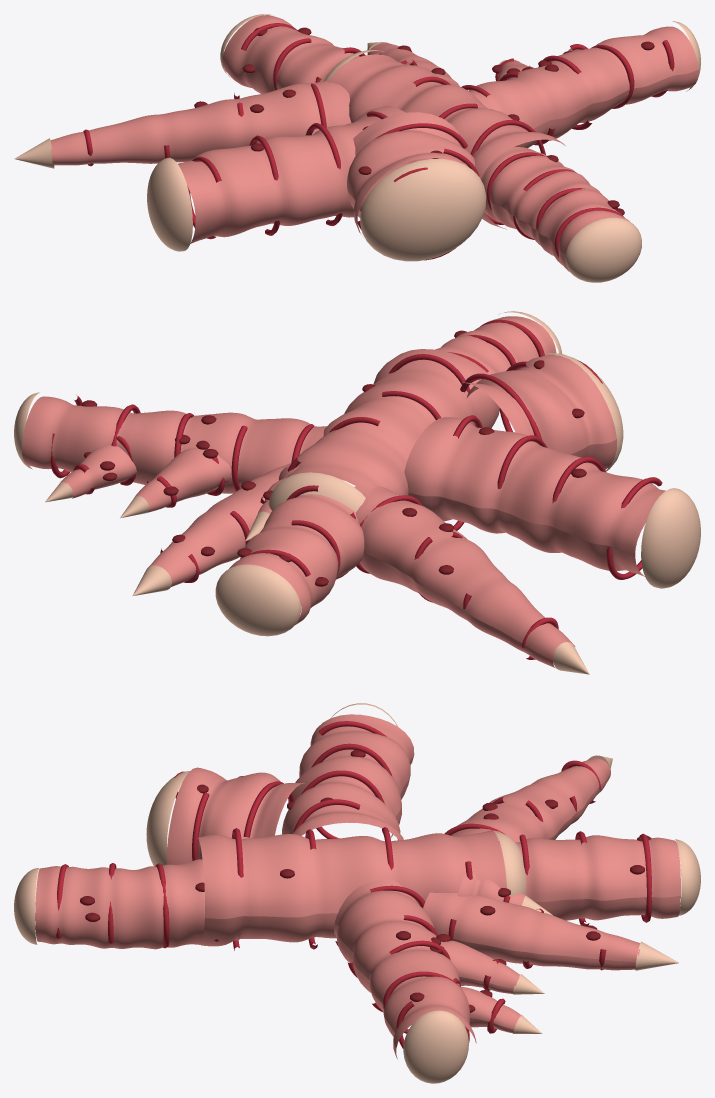
The model's file is jahe_merah.glb.
3 views of the same model, one above another, from view 1: azimuth 30°, elevation 25°; view 2: azimuth 150°, elevation 25°; view 3: azimuth 270°, elevation 25° (orthographic). The views are drawn at different scales.
Parts seen in each view (by area): view 1: finger_left, finger_upper_left, finger_right, knob_lower_left_cap, body_central, finger_bottom, finger_top, knob_lower_left, finger_bottom_cap, finger_left_cap, finger_upper_right, finger_upper_left_tip (+6 smaller); view 2: finger_left, finger_upper_left, finger_right, body_central, knob_lower_left, finger_top, finger_upper_right, finger_top_cap, finger_left_cap, finger_bottom, bud_right_a, bud_right_b (+8 smaller); view 3: body_central, finger_bottom, finger_top, finger_right, finger_left, finger_upper_right, knob_lower_left, finger_upper_left, finger_right_cap, bud_right_a, knob_lower_left_cap, bud_right_b (+6 smaller).
Part boxes in pixels (x1,y1,x2,y2): finger_left: (178,106,432,243); finger_upper_left: (50,81,351,165); finger_right: (468,26,698,148); knob_lower_left_cap: (360,159,486,261); body_central: (328,54,565,229); finger_bottom: (481,147,629,271); finger_top: (222,15,359,93); knob_lower_left: (347,112,475,237); finger_bottom_cap: (565,217,641,282); finger_left_cap: (147,157,192,251); finger_upper_right: (367,42,459,86); finger_upper_left_tip: (14,138,54,168); finger_left: (404,417,665,576); finger_upper_left: (354,486,575,668); finger_right: (22,396,326,493); body_central: (286,349,499,497); knob_lower_left: (462,355,616,469); finger_top: (229,494,364,624); finger_upper_right: (149,463,291,586); finger_top_cap: (215,564,300,636); finger_left_cap: (641,488,700,588); finger_bottom: (435,316,556,374); bud_right_a: (135,447,231,512); bud_right_b: (60,445,136,498); body_central: (198,830,506,946); finger_bottom: (35,859,240,949); finger_top: (498,835,680,920); finger_right: (333,879,476,1059); finger_left: (282,714,414,840); finger_upper_right: (423,892,640,970); knob_lower_left: (166,767,304,864); finger_upper_left: (451,758,610,842); finger_right_cap: (403,1010,468,1083); bud_right_a: (440,940,519,993); knob_lower_left_cap: (146,771,189,866); bud_right_b: (460,986,520,1033).
Bounding box in the file's own units: 0.1683 × 0.0296 × 0.1535.
